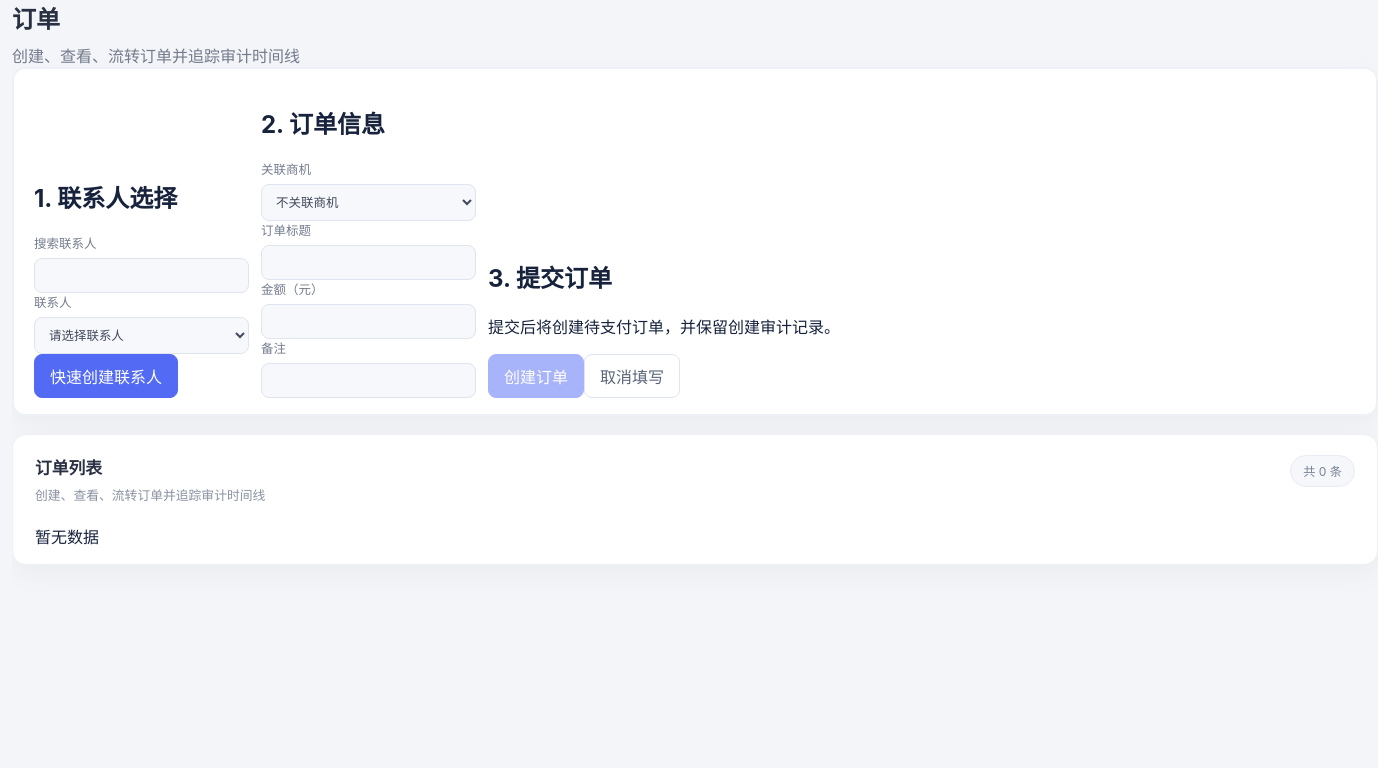
Test: disables duplicate submission while pending and preserves fields on failure
Select "张三" in the dropdown labelled "联系人" at (142, 335), box [34, 317, 249, 354]
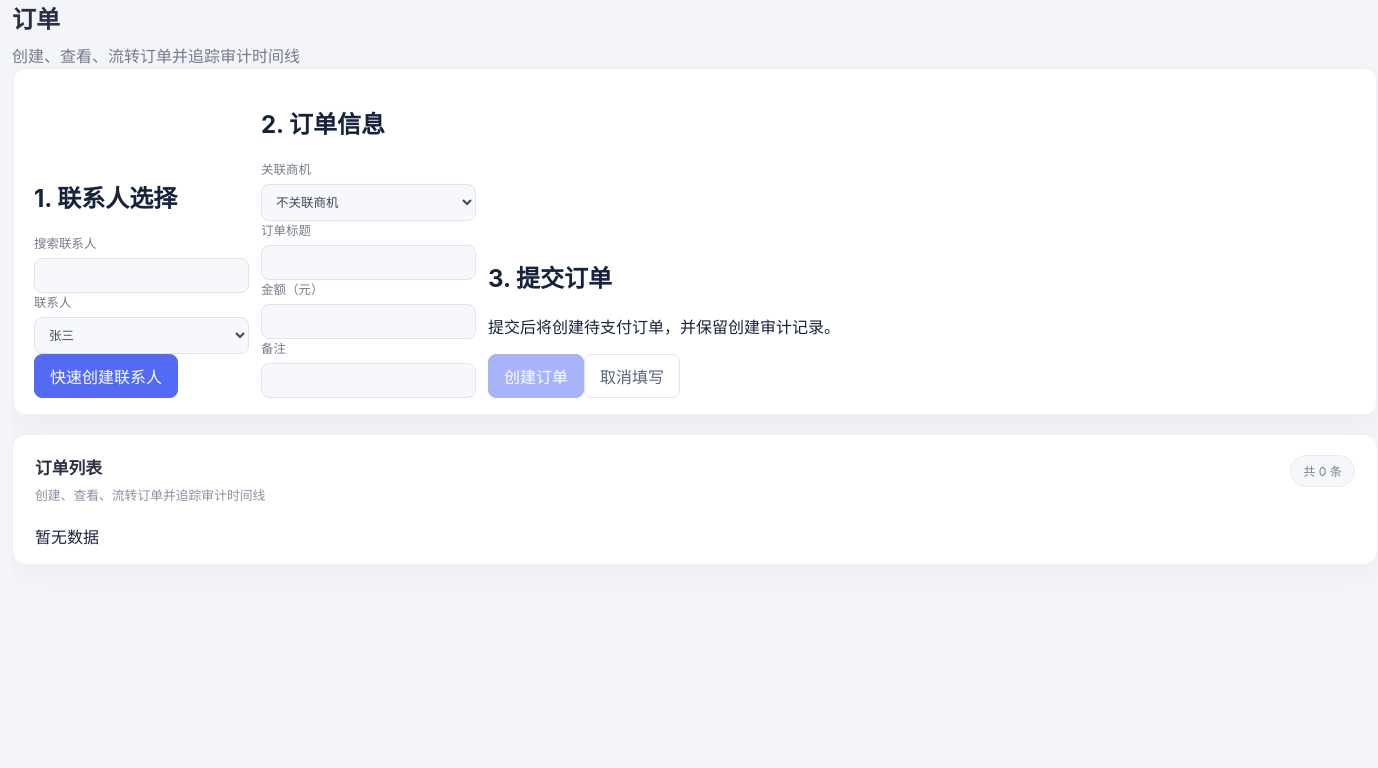
Type "续费订单" into the field labelled "订单标题" at (368, 262), box [261, 245, 476, 280]
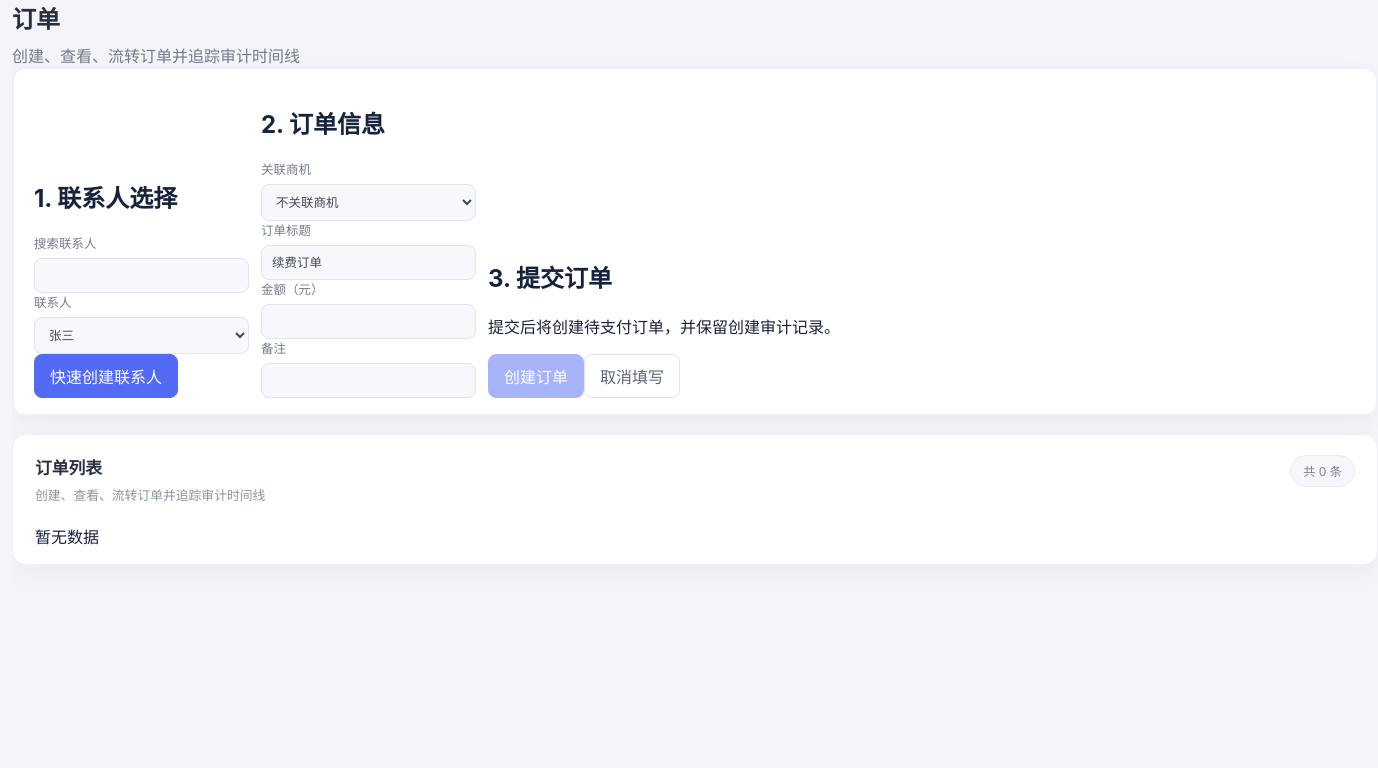
Type "12.00" into the field labelled "金额（元）" at (368, 321), box [261, 304, 476, 339]
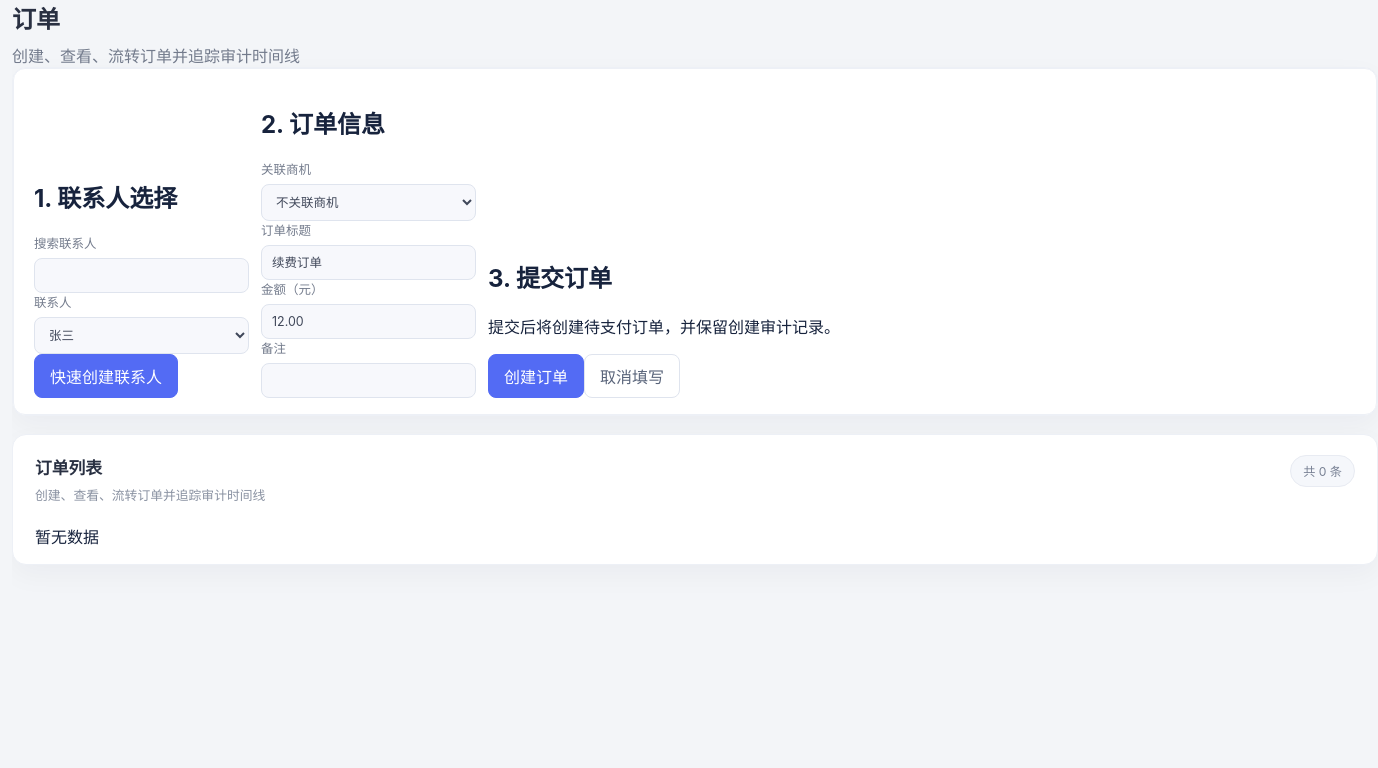
Click the button "创建订单" at (536, 376), box [488, 354, 584, 398]
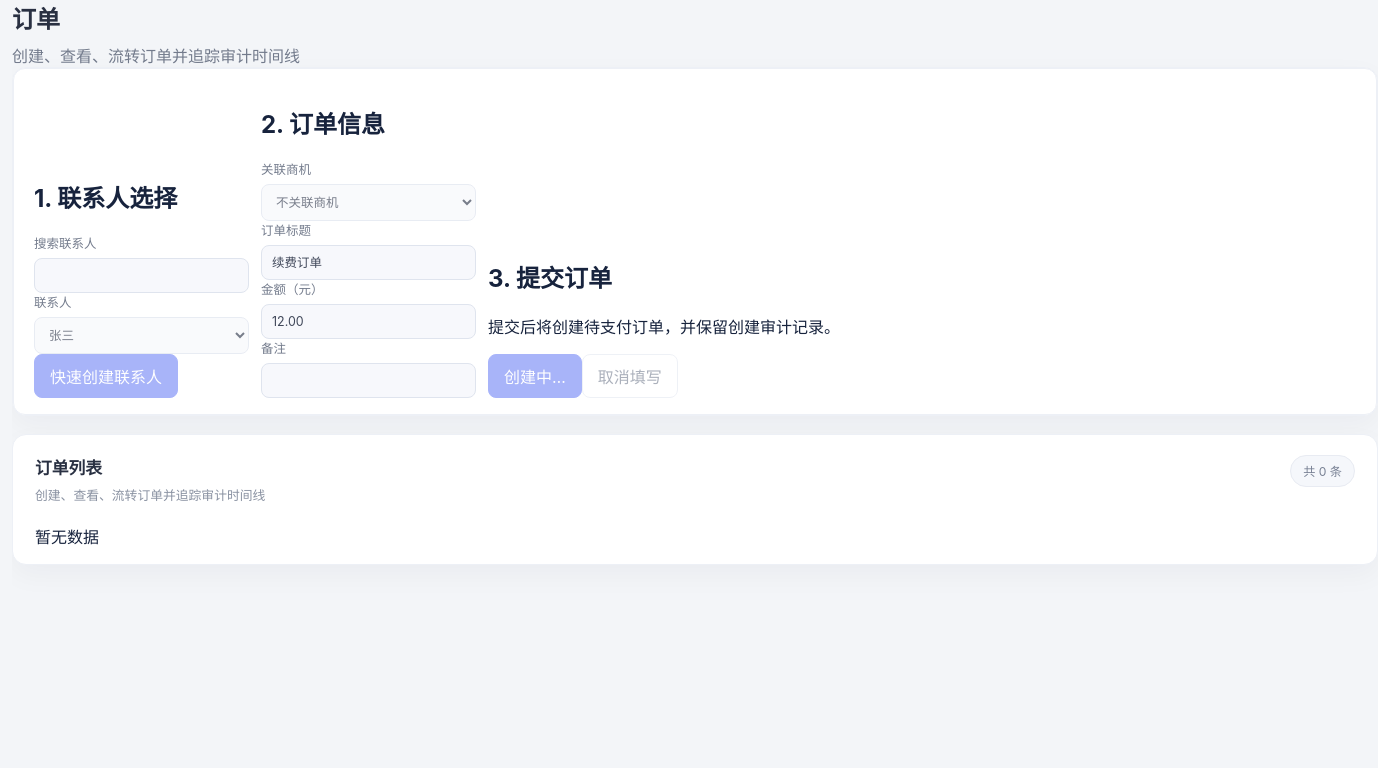
Expected: the field labelled "订单标题" is disabled, [261, 245, 476, 280]
Now the button "创建中…" is disabled
Now the dropdown labelled "联系人" is disabled, box [34, 317, 249, 354]
Click the button "创建中…" at (535, 376), box [488, 354, 582, 398]
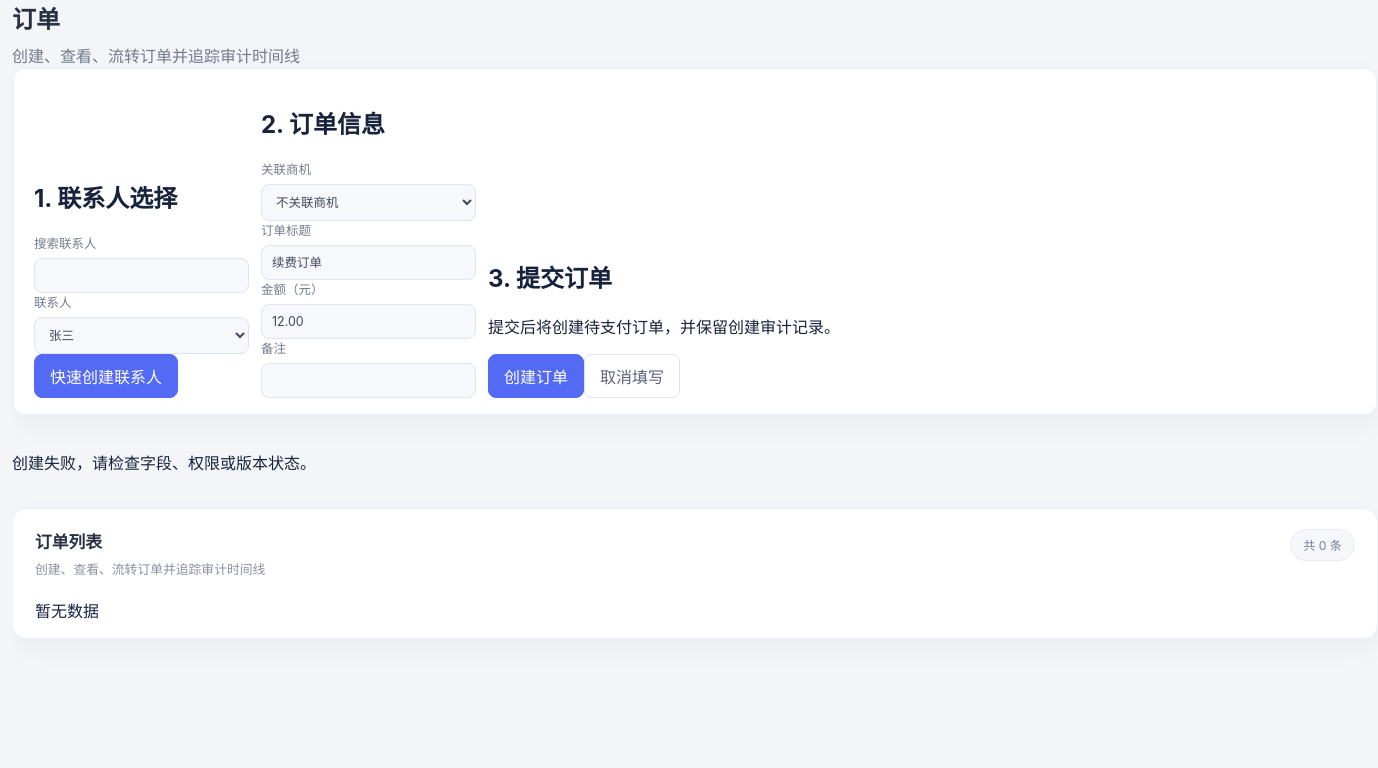
Now the message "创建失败，请检查字段、权限或版本状态。" is shown, box [12, 453, 316, 473]
